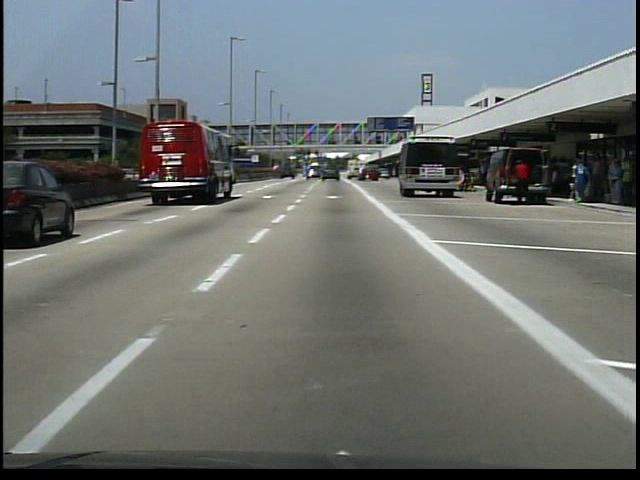person: (512, 154, 533, 209)
